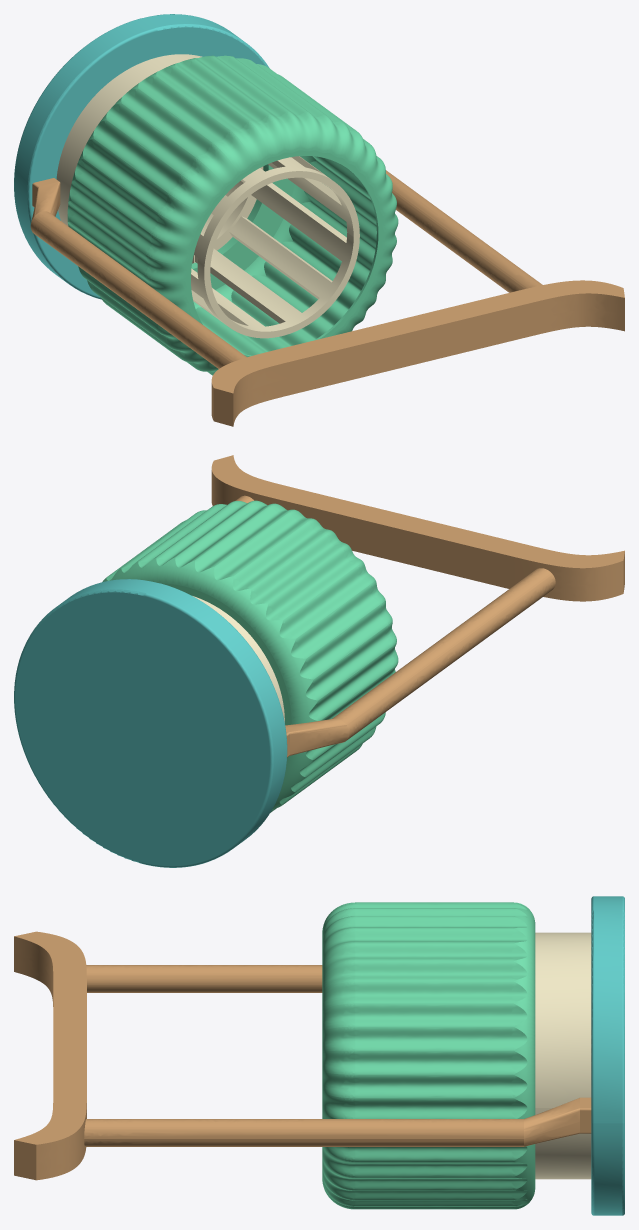
The model's file is lantern.glb.
The picture shows the model from 3 angles, top to bottom: view 1: azimuth 30°, elevation 25°; view 2: azimuth 150°, elevation 25°; view 3: azimuth 270°, elevation 25°; orthographic projection. The views are drawn at different scales.
Visible parts, largest first — view 1: o1.6, o1.4, o1.5, o1.1, o1.2, o1.3; view 2: o1.1, o1.6, o1.4, o1.2, o1.5; view 3: o1.6, o1.3, o1.5, o1.4, o1.1, o1.2.
Part boxes in pixels (x1,y1,x2,y2): o1.6: (67,55,398,375); o1.4: (211,280,624,426); o1.5: (56,54,359,338); o1.1: (14,14,269,299); o1.2: (30,178,246,368); o1.3: (386,170,542,292); o1.1: (14,579,287,867); o1.6: (102,500,398,812); o1.4: (211,455,624,601); o1.2: (285,568,555,757); o1.5: (193,596,284,722); o1.6: (322,902,535,1209); o1.3: (84,1097,591,1146); o1.5: (535,932,591,1179); o1.4: (14,931,86,1180); o1.1: (591,896,624,1215); o1.2: (86,965,322,992).
Bounding box in the file's own units: 0.18 × 0.114 × 0.218.
